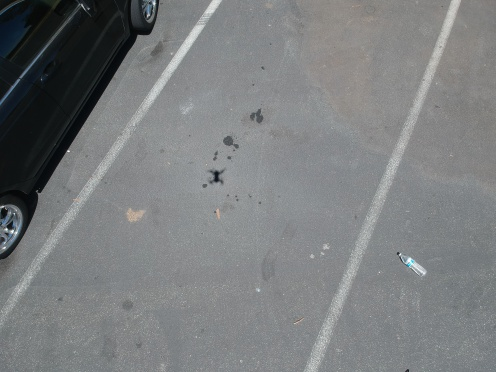bottle: (394, 249, 429, 281)
